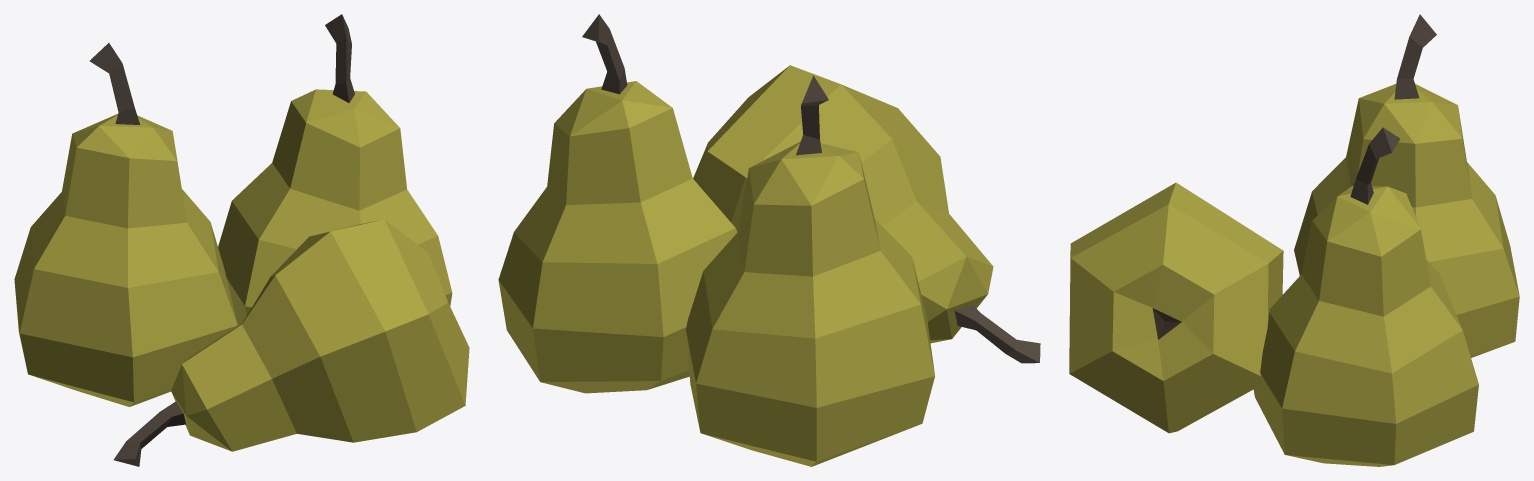
The model's file is SM_Prop_Pear_01_Group.glb.
The picture shows the model from 3 angles, left to right: view 1: azimuth 30°, elevation 25°; view 2: azimuth 150°, elevation 25°; view 3: azimuth 270°, elevation 25°; orthographic projection. The views are drawn at different scales.
Visible parts, largest first — view 1: SM_Prop_Pear_01_Group; view 2: SM_Prop_Pear_01_Group; view 3: SM_Prop_Pear_01_Group.
Part boxes in pixels (bbox=[...]): SM_Prop_Pear_01_Group: bbox=[14, 14, 469, 466]; SM_Prop_Pear_01_Group: bbox=[498, 14, 1040, 466]; SM_Prop_Pear_01_Group: bbox=[1069, 14, 1519, 466].
Bounding box in the file's own units: 0.2859 × 0.2334 × 0.2816.
1 material, 1 textured.
